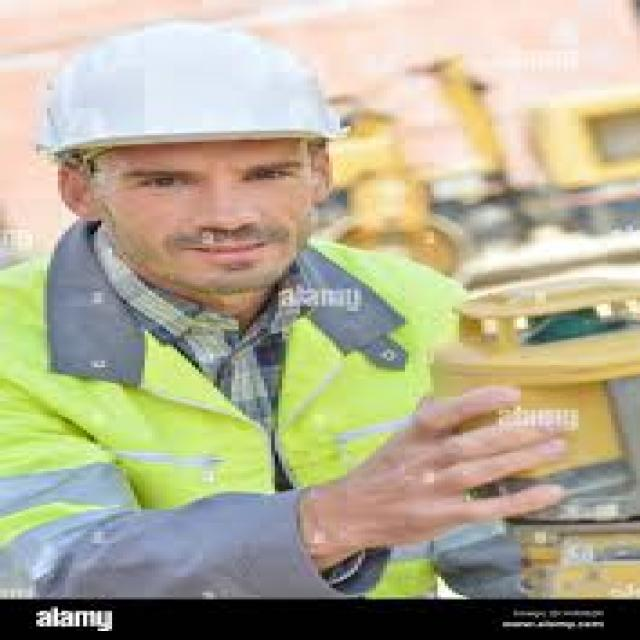Reflective-Jacket: (8, 250, 466, 597)
Safety-Helmet: (22, 14, 376, 162)
